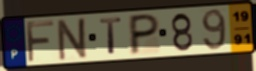8: (170, 12, 194, 52)
9: (199, 8, 228, 52)
F: (25, 19, 57, 64)
N: (57, 16, 90, 62)
P: (128, 13, 162, 57)
T: (99, 16, 124, 56)
